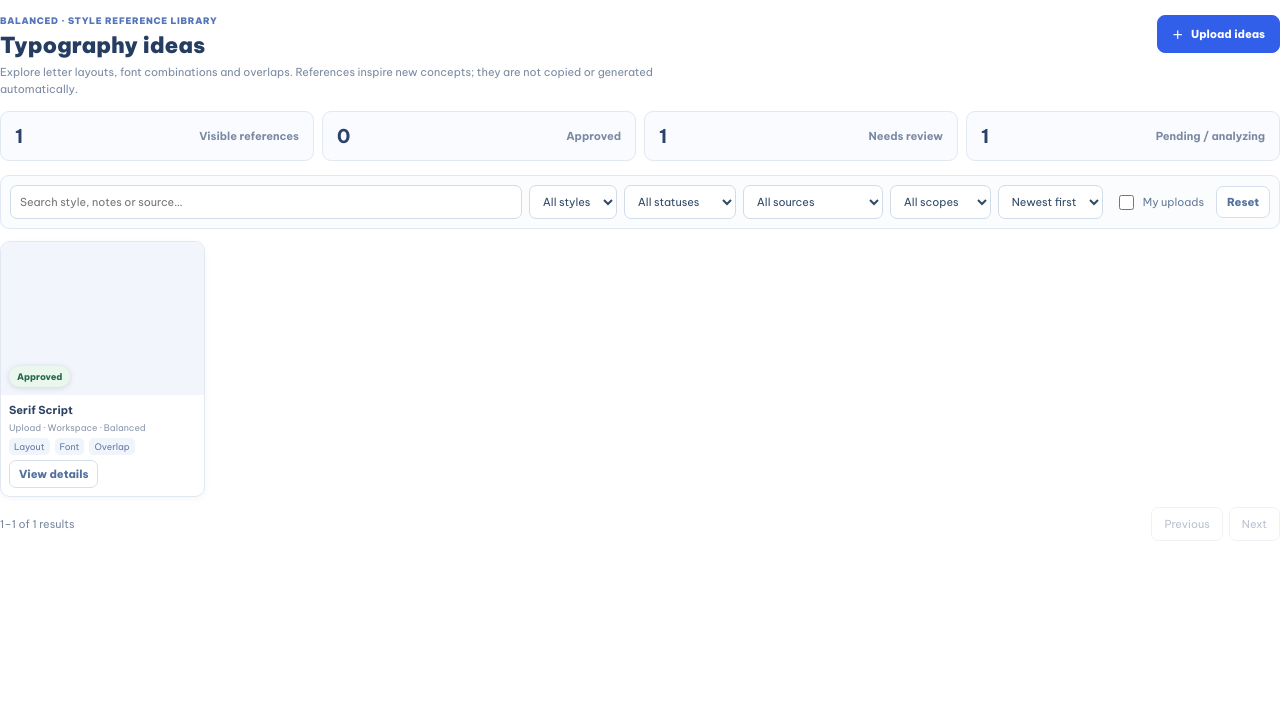
Typography Ideas Stage 1 navigation and gated library › allows a rights-approved reviewer to request one real G3 job and shows pending status
Click the button with class "typography-reference-image" at (102, 319), box [1,242,204,395]
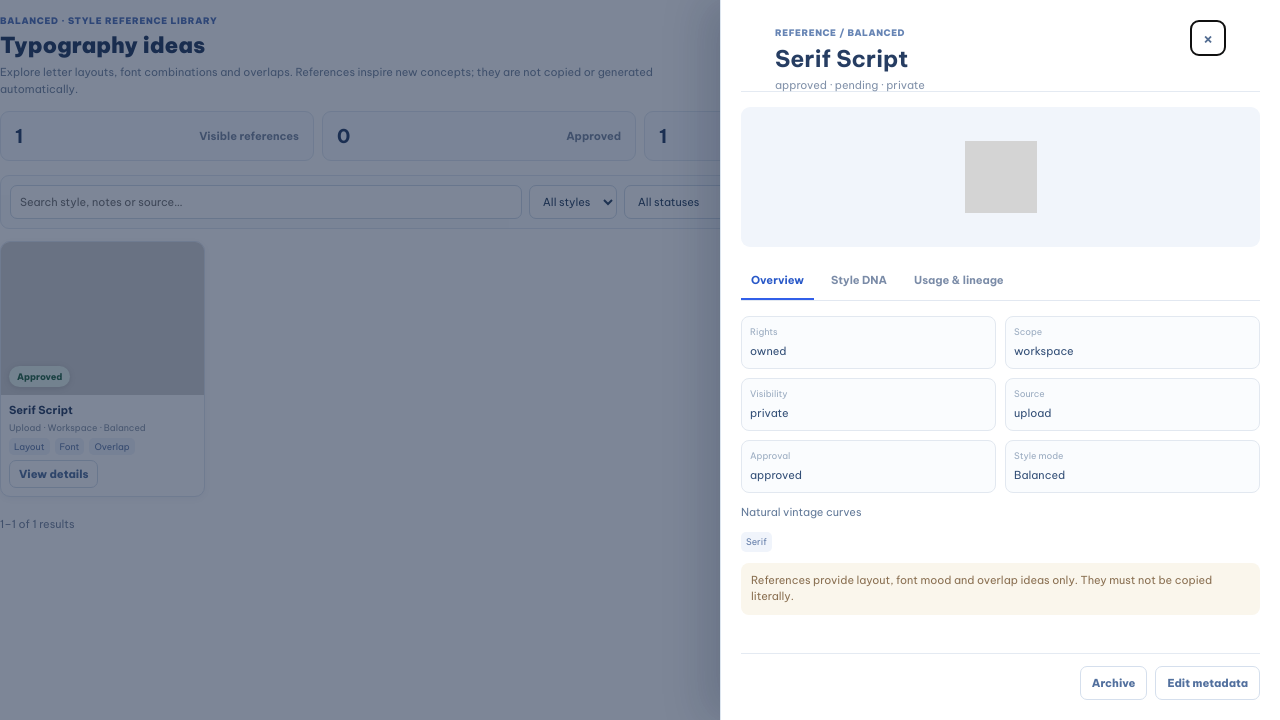
expect the tab "Style DNA" is shown: met
Click the tab "Style DNA" at (859, 281), box [821,262,897,300]
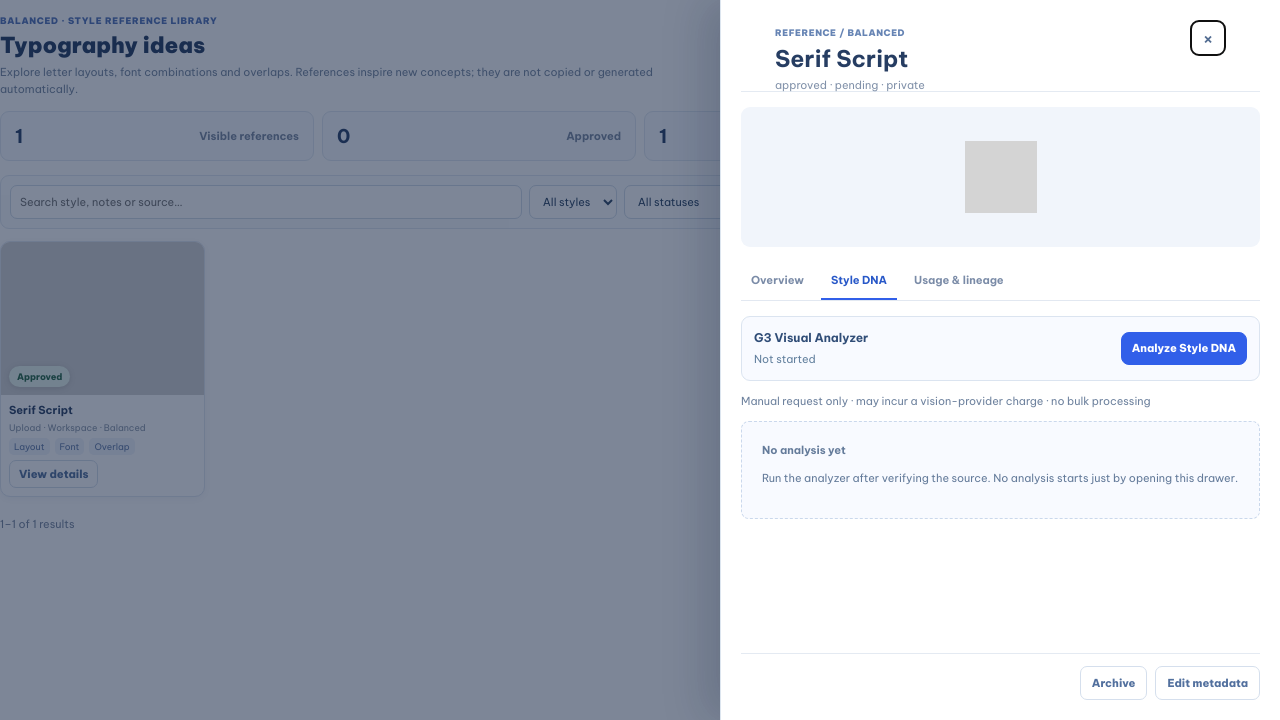
expect the dialog with test id "typography-detail-drawer" shows "Analyze Style DNA": met
expect the button "Analyze Style DNA" is shown: met
Click the button "Analyze Style DNA" at (1184, 348), box [1121,332,1247,365]
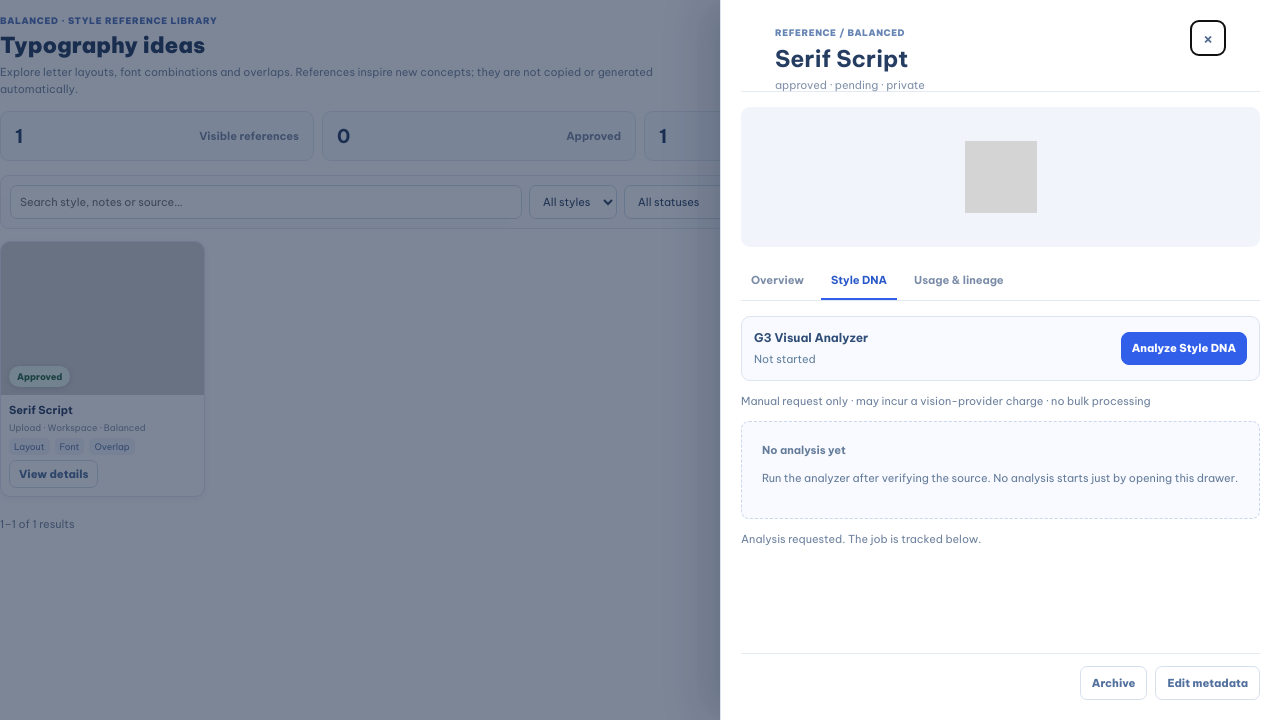
expect the dialog with test id "typography-detail-drawer" shows "Analysis requested": met, box [741,532,982,546]
